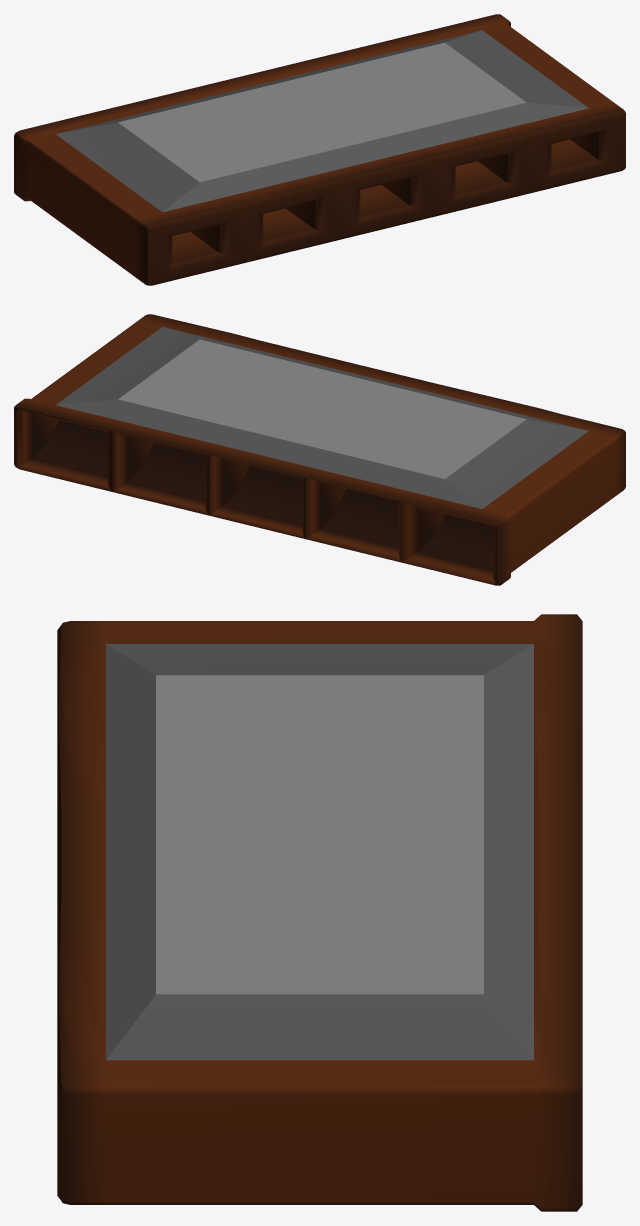
Rendered from Harmonica.fbx.
3 views of the same model, one above another, from view 1: azimuth 30°, elevation 25°; view 2: azimuth 150°, elevation 25°; view 3: azimuth 270°, elevation 25° (orthographic). The views are drawn at different scales.
Parts seen in each view (by area): view 1: pasted__pCube1; view 2: pasted__pCube1; view 3: pasted__pCube1.
Boxes of the visible parts, x1,y1,x2,y2 form: pasted__pCube1: [14, 14, 625, 285]; pasted__pCube1: [14, 314, 625, 585]; pasted__pCube1: [57, 614, 582, 1211].
Size of the model in its own units: 0.541 by 0.0755 by 0.2519.
